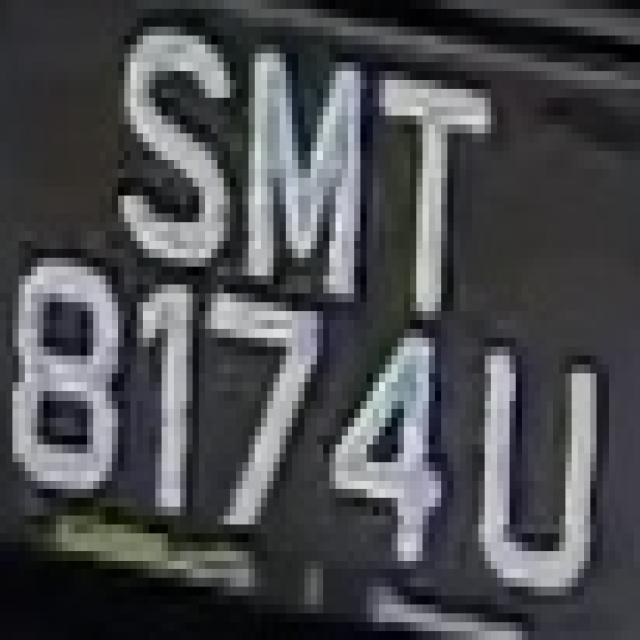1: (130, 267, 212, 542)
4: (330, 302, 472, 551)
7: (199, 285, 335, 551)
8: (12, 240, 130, 524)
M: (218, 18, 360, 311)
S: (93, 18, 236, 276)
T: (360, 36, 472, 311)
U: (472, 311, 609, 622)
